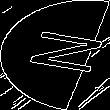N_E: (8, 29, 102, 81)
